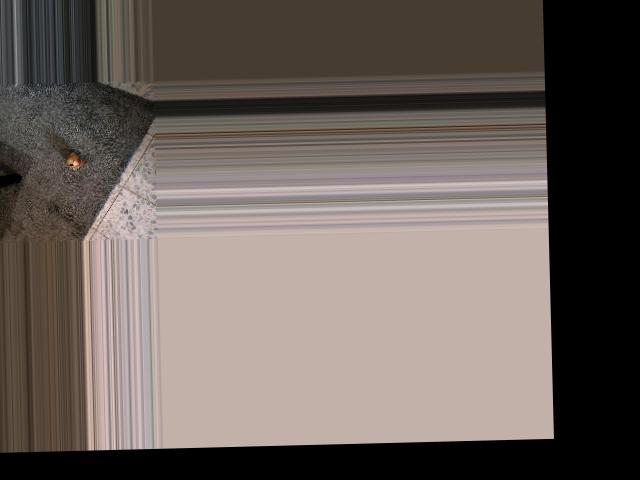onion: (64, 145, 86, 170)
